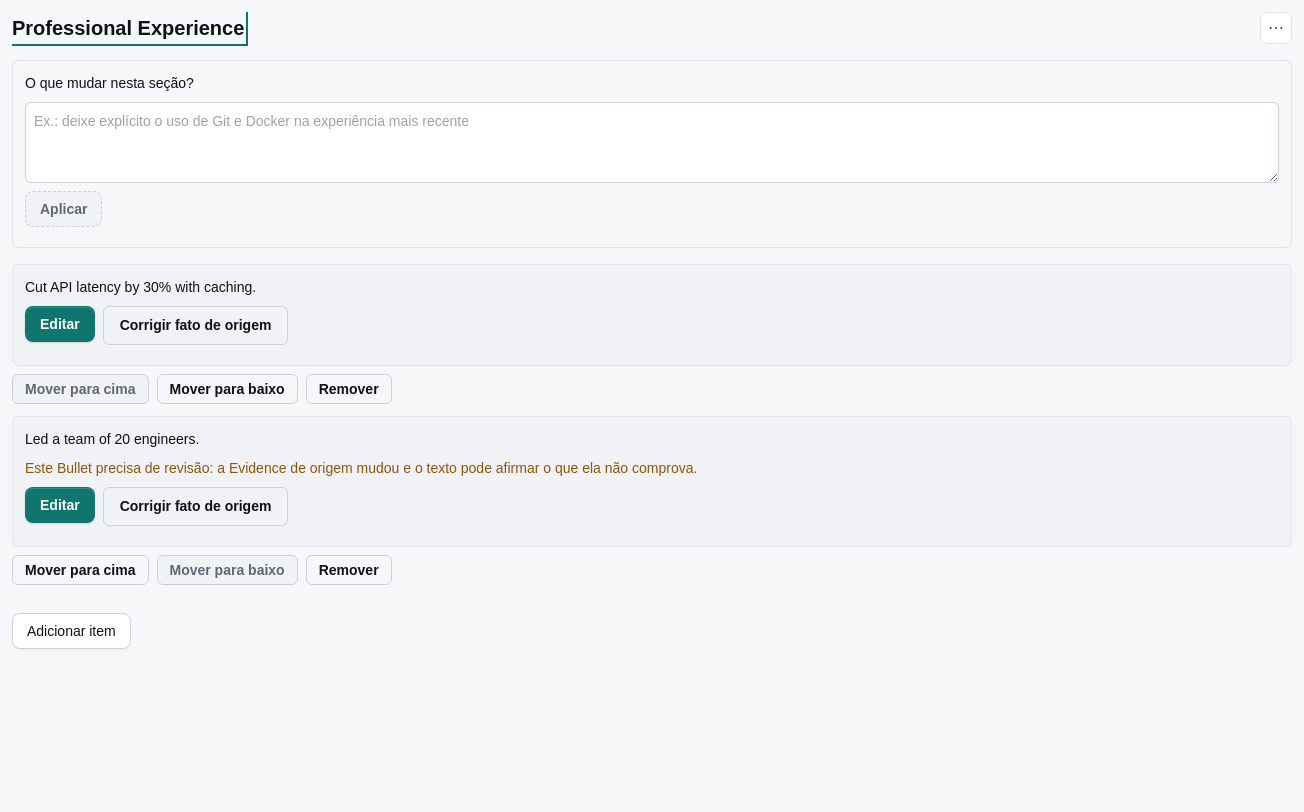
Test: SectionPanel › should disable applying without text and send the instruction
The image size is (1304, 812).
Expected: the button "Aplicar" is disabled, [25,191,102,227]
Replace the text in the text box labelled "O que mudar nesta seção?" with "Highlight Git and Docker." at (652, 142), box [25,102,1279,183]
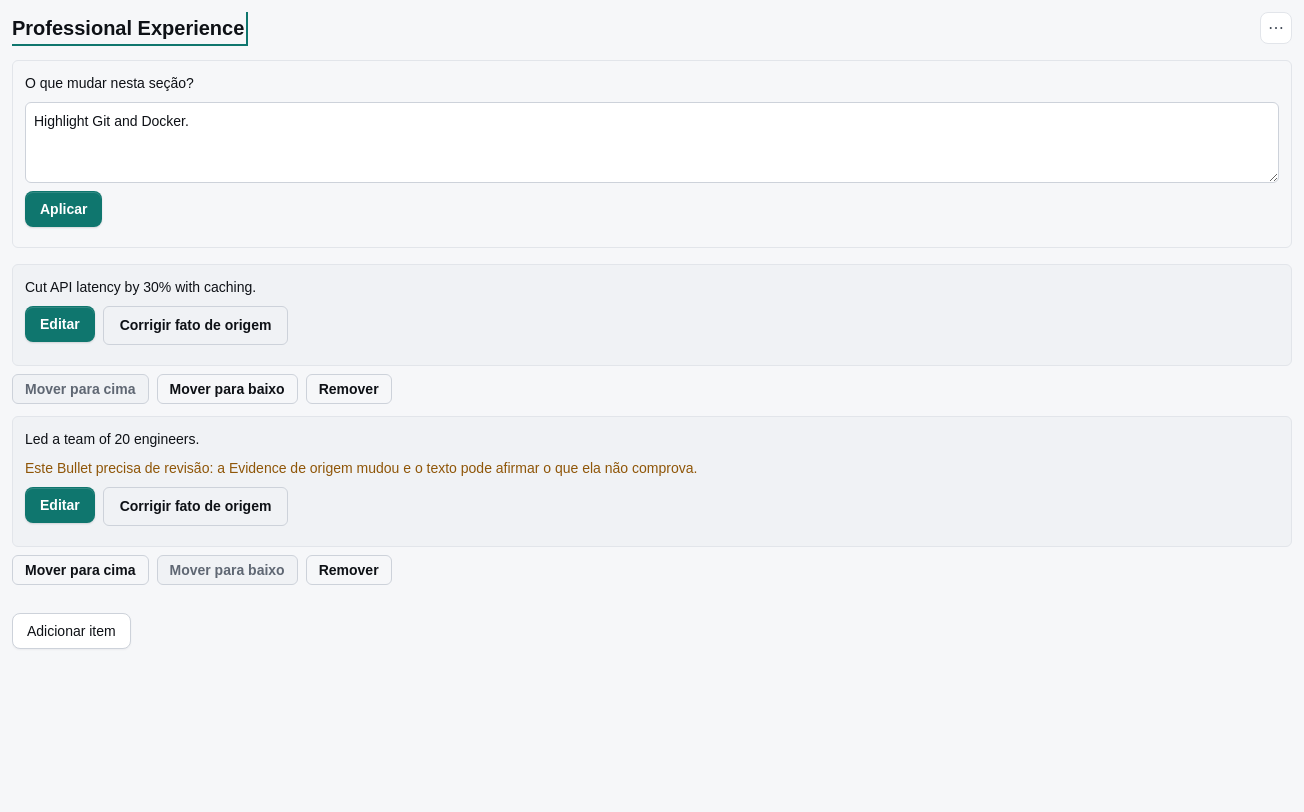
Result: the button "Aplicar" is enabled
Click the button "Aplicar" at (64, 209), box [25,191,102,227]
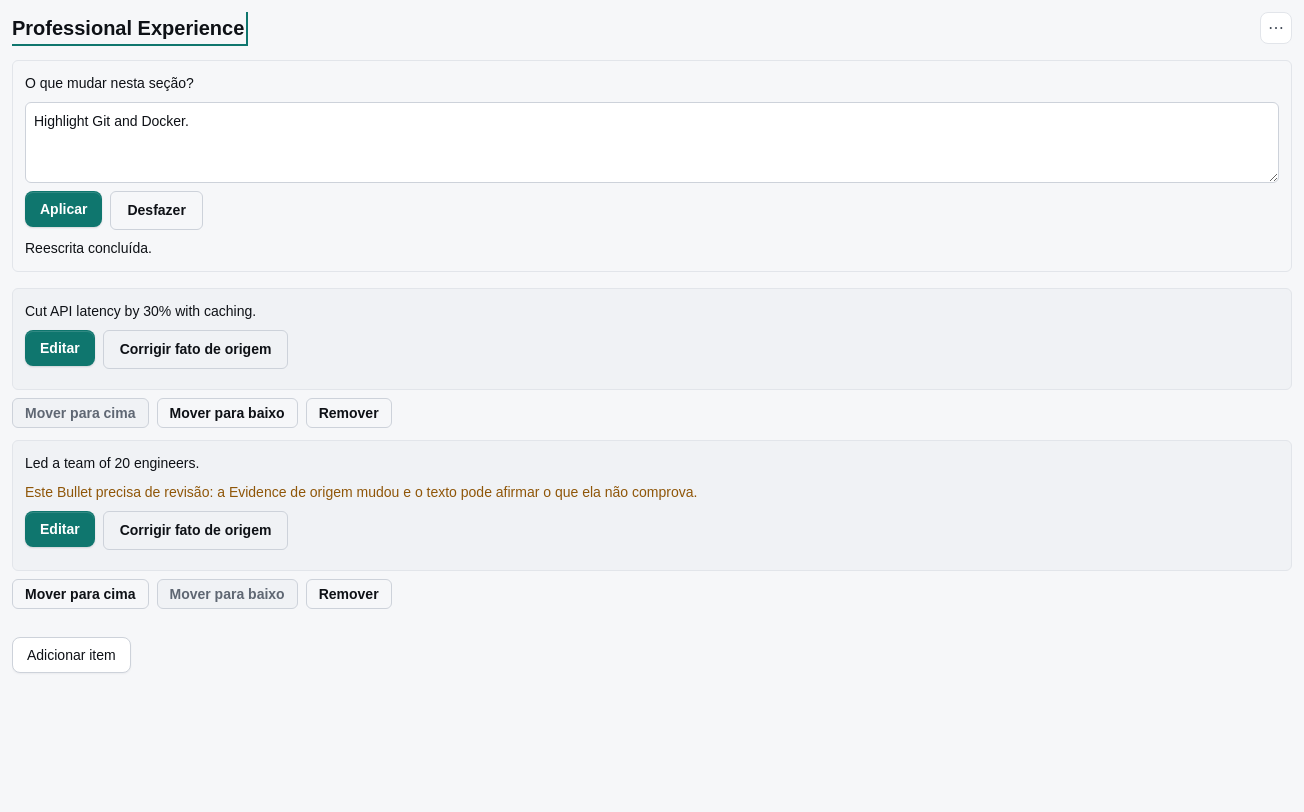
Result: the text "Reescrevendo…" is shown at [25,240,152,256]
Result: the button "Desfazer" is shown at [110,191,203,230]
